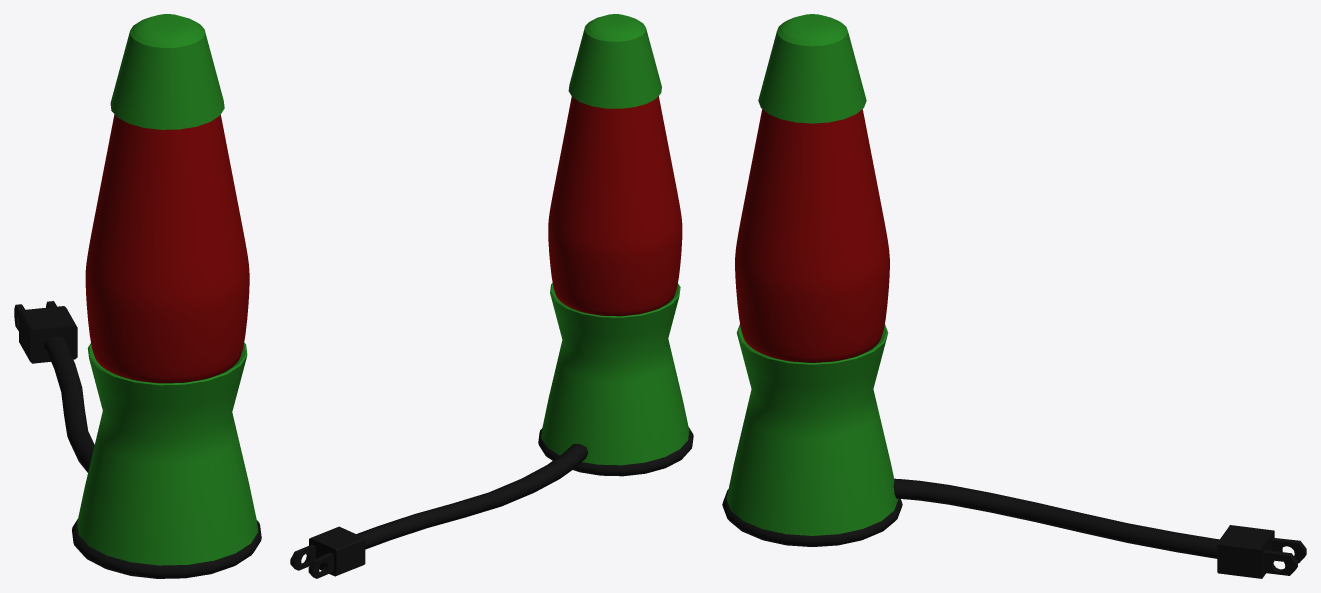
3 views of the same model, side by side, from view 1: azimuth 30°, elevation 25°; view 2: azimuth 150°, elevation 25°; view 3: azimuth 270°, elevation 25° (orthographic). The views are drawn at different scales.
Visible parts, largest first — view 1: glass, base, cap, Cable, rubber_bottom, Plug; view 2: glass, base, cap, Cable, Plug, rubber_bottom; view 3: glass, base, cap, Cable, Plug, rubber_bottom.
Part boxes in pixels (bbox=[...]): glass: bbox=[85, 114, 249, 383]; base: bbox=[77, 342, 258, 565]; cap: bbox=[110, 14, 224, 129]; Cable: bbox=[43, 336, 94, 472]; rubber_bottom: bbox=[72, 519, 261, 578]; Plug: bbox=[14, 301, 77, 363]; glass: bbox=[548, 96, 682, 316]; base: bbox=[541, 283, 689, 465]; cap: bbox=[568, 14, 661, 108]; Cable: bbox=[356, 444, 588, 549]; Plug: bbox=[290, 526, 365, 578]; rubber_bottom: bbox=[538, 427, 693, 476]; glass: bbox=[735, 109, 889, 362]; base: bbox=[726, 324, 898, 535]; cap: bbox=[758, 14, 866, 123]; Cable: bbox=[893, 478, 1219, 558]; Plug: bbox=[1217, 525, 1306, 578]; rubber_bottom: bbox=[722, 489, 902, 546].
Bounding box in the file's own units: 0.8386 × 1.87 × 2.
